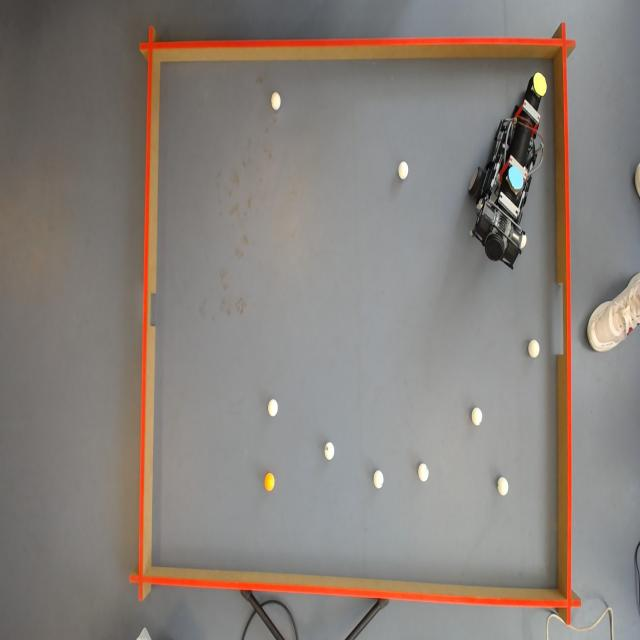orange: (264, 472, 276, 492)
robot: (468, 63, 548, 272)
robot-front: (534, 72, 547, 96)
robot-rear: (507, 162, 528, 190)
white: (398, 160, 411, 180), (372, 471, 384, 492), (270, 90, 282, 110), (498, 478, 510, 497), (322, 441, 334, 459), (471, 407, 483, 425), (267, 400, 279, 417), (528, 340, 539, 358), (418, 465, 430, 481)
